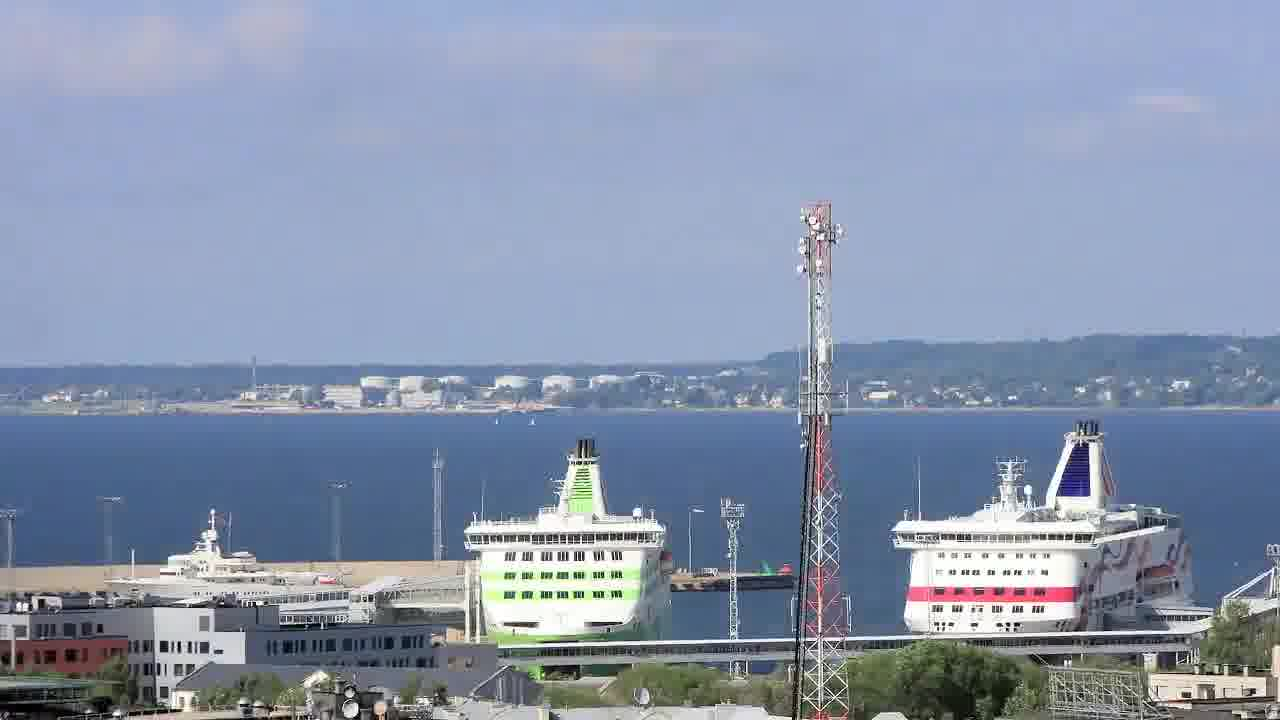type-3: (868, 415, 1225, 638), (436, 434, 694, 670), (66, 506, 394, 645)
